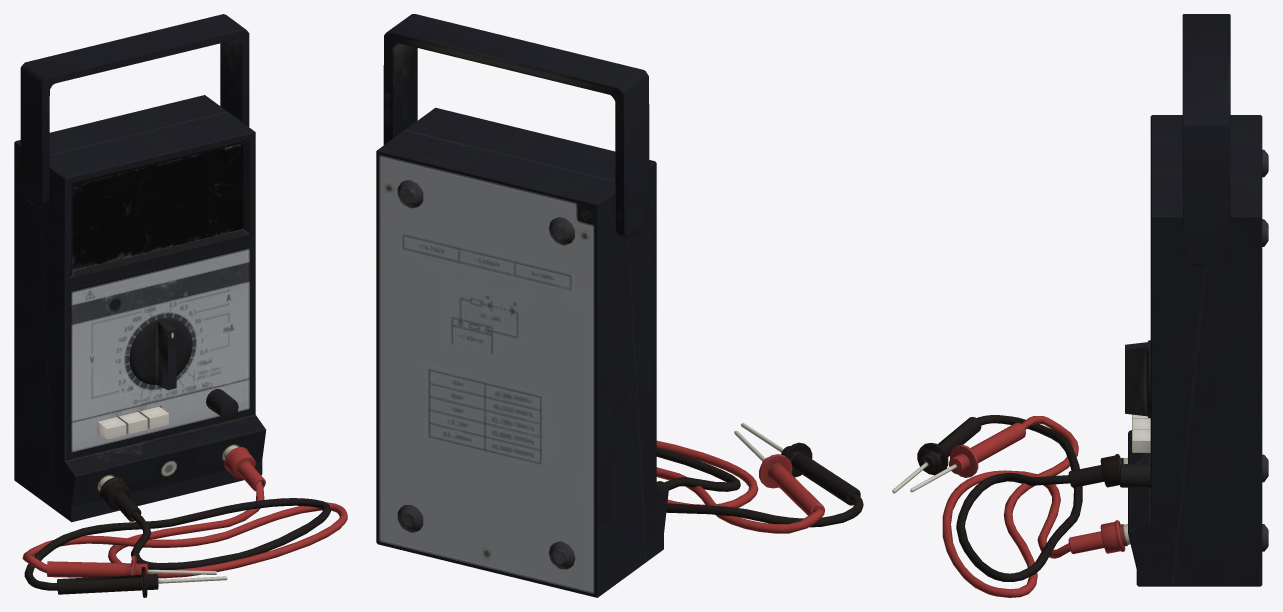
Rendered from retro_multimeter.glb.
3 views of the same model, side by side, from view 1: azimuth 30°, elevation 25°; view 2: azimuth 150°, elevation 25°; view 3: azimuth 270°, elevation 25° (orthographic). The views are drawn at different scales.
Visible parts, largest first — view 1: retro_multimeter_LOD0; view 2: retro_multimeter_LOD0; view 3: retro_multimeter_LOD0.
Boxes of the visible parts, x1,y1,x2,y2 form: retro_multimeter_LOD0: (14, 14, 347, 597); retro_multimeter_LOD0: (376, 14, 863, 597); retro_multimeter_LOD0: (892, 14, 1268, 597).
Size of the model in its own units: 0.216 by 0.2786 by 0.2025.
2 materials, 2 textured.
